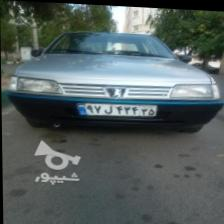plate: (75, 100, 156, 118)
